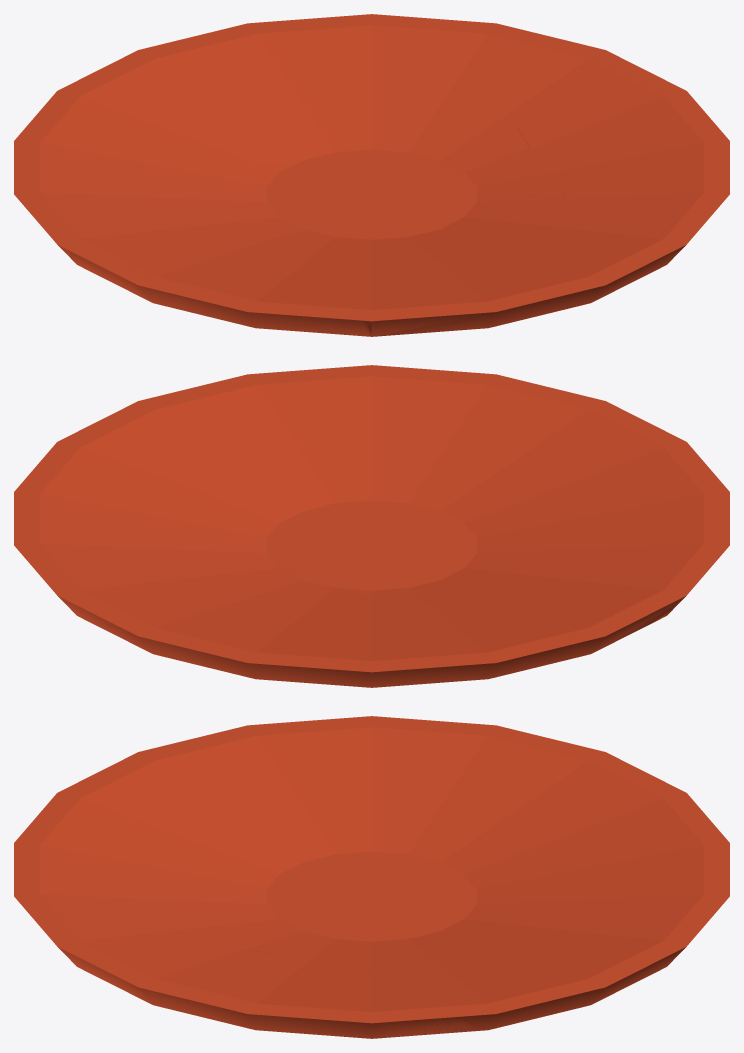
File: P_AssietteColored_Breackable.fbx
3 renders of one model, top to bottom at view 1: azimuth 30°, elevation 25°; view 2: azimuth 150°, elevation 25°; view 3: azimuth 270°, elevation 25°, orthographic.
Parts seen in each view (by area): view 1: P_Assiette_Colored_Breakable, P_Assiette_Colored_Breakable_cell.008, P_Assiette_Colored_Breakable_cell.005, P_Assiette_Colored_Breakable_cell.002, P_Assiette_Colored_Breakable_cell.006, P_Assiette_Colored_Breakable_cell.004, P_Assiette_Colored_Breakable_cell.009, P_Assiette_Colored_Breakable_cell, P_Assiette_Colored_Breakable_cell.001, P_Assiette_Colored_Breakable_cell.003; view 2: P_Assiette_Colored_Breakable, P_Assiette_Colored_Breakable_cell.008, P_Assiette_Colored_Breakable_cell.005, P_Assiette_Colored_Breakable_cell.002, P_Assiette_Colored_Breakable_cell.006, P_Assiette_Colored_Breakable_cell.009, P_Assiette_Colored_Breakable_cell.004, P_Assiette_Colored_Breakable_cell.003; view 3: P_Assiette_Colored_Breakable, P_Assiette_Colored_Breakable_cell.005, P_Assiette_Colored_Breakable_cell.008, P_Assiette_Colored_Breakable_cell.002, P_Assiette_Colored_Breakable_cell.006, P_Assiette_Colored_Breakable_cell.009, P_Assiette_Colored_Breakable_cell.004, P_Assiette_Colored_Breakable_cell.003, P_Assiette_Colored_Breakable_cell.001.
Part boxes in pixels (x1=…): P_Assiette_Colored_Breakable: x1=14, y1=15, x2=729, y2=336; P_Assiette_Colored_Breakable_cell.008: x1=271, y1=14, x2=566, y2=198; P_Assiette_Colored_Breakable_cell.005: x1=69, y1=21, x2=299, y2=172; P_Assiette_Colored_Breakable_cell.002: x1=70, y1=159, x2=231, y2=293; P_Assiette_Colored_Breakable_cell.006: x1=499, y1=71, x2=729, y2=198; P_Assiette_Colored_Breakable_cell.004: x1=415, y1=17, x2=627, y2=82; P_Assiette_Colored_Breakable_cell.009: x1=14, y1=144, x2=96, y2=249; P_Assiette_Colored_Breakable_cell: x1=122, y1=277, x2=369, y2=336; P_Assiette_Colored_Breakable_cell.001: x1=365, y1=245, x2=685, y2=336; P_Assiette_Colored_Breakable_cell.003: x1=14, y1=81, x2=75, y2=144; P_Assiette_Colored_Breakable: x1=26, y1=365, x2=729, y2=687; P_Assiette_Colored_Breakable_cell.008: x1=43, y1=456, x2=328, y2=628; P_Assiette_Colored_Breakable_cell.005: x1=125, y1=589, x2=473, y2=669; P_Assiette_Colored_Breakable_cell.002: x1=415, y1=551, x2=719, y2=632; P_Assiette_Colored_Breakable_cell.006: x1=67, y1=374, x2=304, y2=517; P_Assiette_Colored_Breakable_cell.009: x1=474, y1=588, x2=692, y2=660; P_Assiette_Colored_Breakable_cell.004: x1=14, y1=478, x2=119, y2=578; P_Assiette_Colored_Breakable_cell.003: x1=343, y1=646, x2=500, y2=672; P_Assiette_Colored_Breakable: x1=14, y1=716, x2=721, y2=1035; P_Assiette_Colored_Breakable_cell.005: x1=480, y1=775, x2=729, y2=904; P_Assiette_Colored_Breakable_cell.008: x1=244, y1=892, x2=721, y2=968; P_Assiette_Colored_Breakable_cell.002: x1=276, y1=717, x2=539, y2=843; P_Assiette_Colored_Breakable_cell.006: x1=131, y1=950, x2=501, y2=1038; P_Assiette_Colored_Breakable_cell.009: x1=355, y1=716, x2=596, y2=783; P_Assiette_Colored_Breakable_cell.004: x1=462, y1=960, x2=658, y2=1019; P_Assiette_Colored_Breakable_cell.003: x1=577, y1=750, x2=696, y2=804; P_Assiette_Colored_Breakable_cell.001: x1=58, y1=947, x2=141, y2=997.
Bounding box in the file's own units: 63.95 × 4.91 × 62.98.
